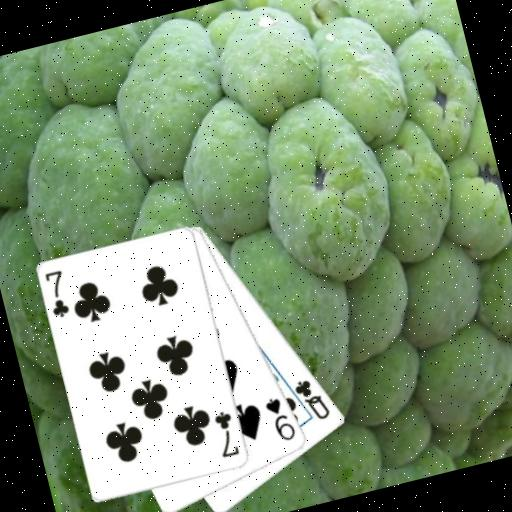7C: (40, 266, 75, 321), (209, 407, 242, 461)
9S: (261, 391, 300, 446)
QC: (290, 373, 334, 427)
